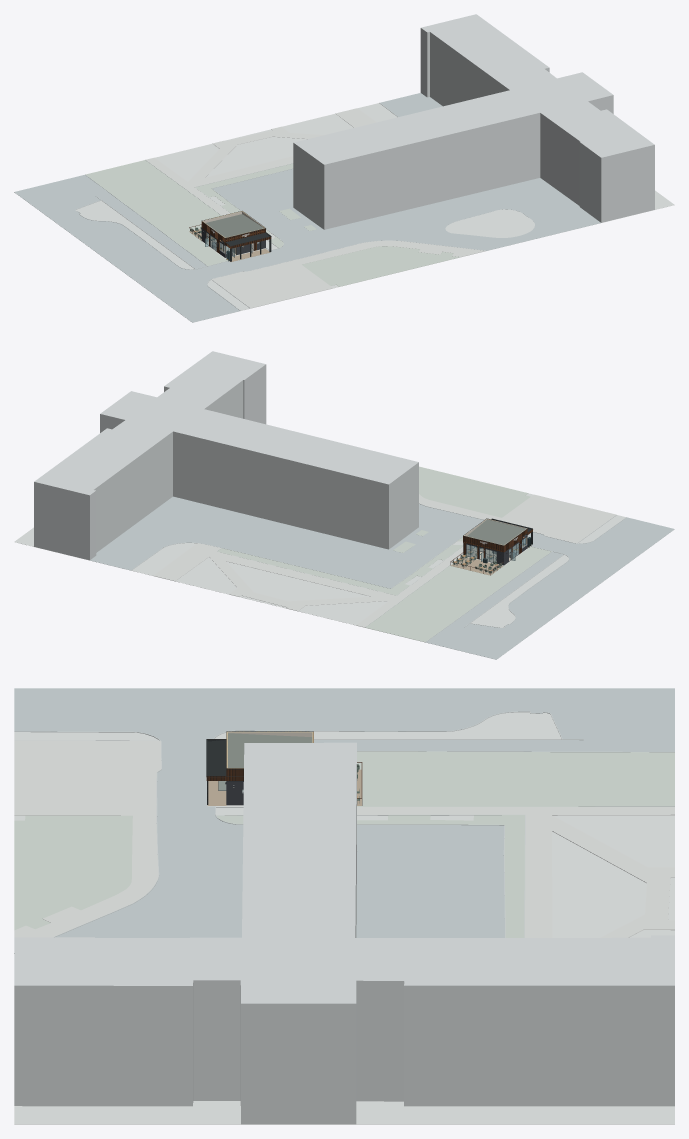
File: cafe.glb
3 views of the same model, one above another, from view 1: azimuth 30°, elevation 25°; view 2: azimuth 150°, elevation 25°; view 3: azimuth 270°, elevation 25° (orthographic). The views are drawn at different scales.
Visible parts, largest first — view 1: r08.context.paving, r08.context.buildings, ar.roof.outer-001-lstk; view 2: r08.context.paving, r08.context.buildings, ar.roof.outer-001-lstk; view 3: r08.context.paving, r08.context.buildings, ar.roof.outer-001-lstk, env.site-001, ar.canopy-001-lstk.
Part boxes in pixels (x1,y1,x2,y2): r08.context.paving: [14, 93, 674, 322]; r08.context.buildings: [293, 14, 654, 229]; ar.roof.outer-001-lstk: [206, 214, 263, 237]; r08.context.paving: [14, 466, 674, 659]; r08.context.buildings: [34, 351, 418, 560]; ar.roof.outer-001-lstk: [467, 519, 525, 545]; r08.context.paving: [14, 688, 674, 1124]; r08.context.buildings: [14, 742, 674, 1124]; ar.roof.outer-001-lstk: [228, 733, 312, 767]; env.site-001: [14, 805, 674, 1124]; ar.canopy-001-lstk: [207, 740, 226, 775].
Size of the model in its own units: 128 by 16.54 by 82.03.
Materials: 41 (4 with a texture image).
